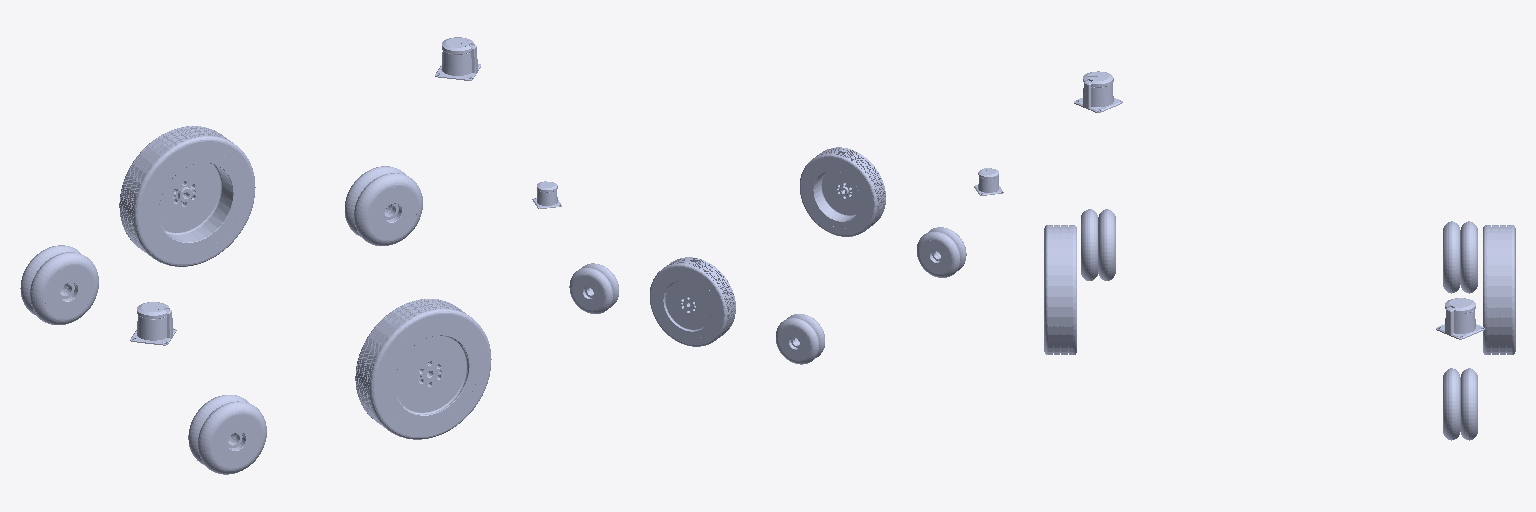
The robot description file, URDF, robot "yahboom_rosmaster_description":
<?xml version="1.0"?>
<robot
  name="yahboom_rosmaster_description">

  <link name="base_link">
  </link>

  <link
    name="chassis_link">
    <inertial>
      <origin
        xyz="-0.015895 -0.0026718 0.076958"
        rpy="0 0 0" />
      <mass
        value="100" />
      <inertia
        ixx="5.92"
        ixy="-0.0041576"
        ixz="0.012614"
        iyy="11.61"
        iyz="0.00084255"
        izz="16.64" />
    </inertial>
    <visual>
      <origin
        xyz="0 0 0"
        rpy="0 0 0" />
      <geometry>
        <mesh
          filename="package://yahboom_rosmaster_description/meshes/chassis_link.STL" />
      </geometry>
      <material
        name="">
        <color
          rgba="0.79216 0.81961 0.93333 1" />
      </material>
    </visual>
    <collision>
      <origin
        xyz="0 0 0"
        rpy="0 0 0" />
      <geometry>
        <box size="1.0 0.69 0.18" /> 
      </geometry>
    </collision>
  </link>

  <joint name="chassis_joint" type="fixed">
    <parent link="base_link"/>
    <child link="chassis_link"/>
    <origin xyz="0 0 0"/>
  </joint>

  <link
    name="FR_wheel_link">
    <inertial>
      <origin
        xyz="0.0016929 0.024071 1.8005E-05"
        rpy="0 0 0" />
      <mass
        value="0.76208" />
      <inertia
        ixx="0.0001995"
        ixy="1.2056E-05"
        ixz="7.5814E-09"
        iyy="0.00037007"
        iyz="1.2832E-07"
        izz="0.00019866" />
    </inertial>
    <visual>
      <origin
        xyz="0 0 0"
        rpy="0 0 0" />
      <geometry>
        <mesh
          filename="package://yahboom_rosmaster_description/meshes/FR_wheel_link.STL" />
      </geometry>
      <material
        name="">
        <color
          rgba="0.79216 0.81961 0.93333 1" />
      </material>
    </visual>
    <collision>
      <origin
        xyz="0 0 0"
        rpy="0 0 0" />
      <geometry>
        <cylinder radius="0.035" length="0.05" />
      </geometry>
    </collision>
  </link>
  <joint
    name="FR_wheel_link_joint"
    type="continuous">
    <origin
      xyz="0.177 -0.27738 0.0121"
      rpy="0.00061433 0.019368 0.070226" />
    <parent
      link="chassis_link" />
    <child
      link="FR_wheel_link" />
    <axis
      xyz="0.070155 0.99754 0.00074612" />
    <limit
      effort="150"
      velocity="15.56" />
    <dynamics
      damping="0.05"
      friction="0.1" />
    <safety_controller
      k_position="1000000"
      k_velocity="100" />
  </joint>
  <link
    name="FL_wheel_link">
    <inertial>
      <origin
        xyz="-0.0016928 -0.02407 5.0221E-10"
        rpy="0 0 0" />
      <mass
        value="0.76208" />
      <inertia
        ixx="0.0001995"
        ixy="1.2056E-05"
        ixz="-1.3667E-09"
        iyy="0.00037007"
        iyz="9.6114E-11"
        izz="0.00019866" />
    </inertial>
    <visual>
      <origin
        xyz="0 0 0"
        rpy="0 0 0" />
      <geometry>
        <mesh
          filename="package://yahboom_rosmaster_description/meshes/FL_wheel_link.STL" />
      </geometry>
      <material
        name="">
        <color
          rgba="0.79216 0.81961 0.93333 1" />
      </material>
    </visual>
    <collision>
      <origin
        xyz="0 0 0"
        rpy="0 0 0" />
      <geometry>
        <cylinder radius="0.035" length="0.05" />
      </geometry>
    </collision>
  </link>
  <joint
    name="FL_wheel_link_joint"
    type="continuous">
    <origin
      xyz="0.217 0.27102 0.0121"
      rpy="0 0 0.070214" />
    <parent
      link="chassis_link" />
    <child
      link="FL_wheel_link" />
    <axis
      xyz="-0.070156 -0.99754 0" />
    <limit
      effort="150"
      velocity="15.56" />
    <dynamics
      damping="0.05"
      friction="0.1" />
    <safety_controller
      k_position="1000000"
      k_velocity="100" />
  </joint>
  <link
    name="BR_wheel_link">
    <inertial>
      <origin
        xyz="0.0016929 0.024071 1.8005E-05"
        rpy="0 0 0" />
      <mass
        value="0.76208" />
      <inertia
        ixx="0.0001995"
        ixy="1.2056E-05"
        ixz="7.5814E-09"
        iyy="0.00037007"
        iyz="1.2832E-07"
        izz="0.00019866" />
    </inertial>
    <visual>
      <origin
        xyz="0 0 0"
        rpy="0 0 0" />
      <geometry>
        <mesh
          filename="package://yahboom_rosmaster_description/meshes/BR_wheel_link.STL" />
      </geometry>
      <material
        name="">
        <color
          rgba="0.79216 0.81961 0.93333 1" />
      </material>
    </visual>
    <collision>
      <origin
        xyz="0 0 0"
        rpy="0 0 0" />
      <geometry>
        <cylinder radius="0.035" length="0.05" />
      </geometry>
    </collision>
  </link>
  <joint
    name="BR_wheel_link_joint"
    type="continuous">
    <origin
      xyz="-0.303 -0.27738 0.0121"
      rpy="0.00061433 0.019368 0.070226" />
    <parent
      link="chassis_link" />
    <child
      link="BR_wheel_link" />
    <axis
      xyz="0.070155 0.99754 0.00074612" />
    <limit
      effort="150"
      velocity="15.56" />
    <dynamics
      damping="0.05"
      friction="0.1" />
    <safety_controller
      k_position="1000000"
      k_velocity="100" />
  </joint>
  <link
    name="BL_wheel_link">
    <inertial>
      <origin
        xyz="-0.0016928 -0.02407 -1.8003E-05"
        rpy="0 0 0" />
      <mass
        value="0.76208" />
      <inertia
        ixx="0.0001995"
        ixy="1.2056E-05"
        ixz="7.1848E-09"
        iyy="0.00037007"
        iyz="1.2834E-07"
        izz="0.00019866" />
    </inertial>
    <visual>
      <origin
        xyz="0 0 0"
        rpy="0 0 0" />
      <geometry>
        <mesh
          filename="package://yahboom_rosmaster_description/meshes/BL_wheel_link.STL" />
      </geometry>
      <material
        name="">
        <color
          rgba="0.79216 0.81961 0.93333 1" />
      </material>
    </visual>
    <collision>
      <origin
        xyz="0 0 0"
        rpy="0 0 0" />
      <geometry>
        <cylinder radius="0.035" length="0.05" />
      </geometry>
    </collision>
  </link>
  <joint
    name="BL_wheel_link_joint"
    type="continuous">
    <origin
      xyz="-0.263 0.27088 0.0121"
      rpy="0.00061433 0.019368 0.070226" />
    <parent
      link="chassis_link" />
    <child
      link="BL_wheel_link" />
    <axis
      xyz="-0.070155 -0.99754 -0.00074612" />
    <limit
      effort="150"
      velocity="15.56" />
    <dynamics
      damping="0.05"
      friction="0.1" />
    <safety_controller
      k_position="1000000"
      k_velocity="100" />
  </joint>
  <link
    name="MR_wheel_link">
    <inertial>
      <origin
        xyz="0.0014757 0.020983 1.5695E-05"
        rpy="0 0 0" />
      <mass
        value="3.5" />
      <inertia
        ixx="0.0021514"
        ixy="0.00013184"
        ixz="9.2888E-08"
        iyy="0.0040168"
        iyz="1.4025E-06"
        izz="0.0021423" />
    </inertial>
    <visual>
      <origin
        xyz="0 0 0"
        rpy="0 0 0" />
      <geometry>
        <mesh
          filename="package://yahboom_rosmaster_description/meshes/MR_wheel_link.STL" />
      </geometry>
      <material
        name="">
        <color
          rgba="0.79216 0.81961 0.93333 1" />
      </material>
    </visual>
    <collision>
      <origin
        xyz="0 0 0"
        rpy="0 0 0" />
      <geometry>
        <cylinder radius="0.09" length="0.044" />
      </geometry>
    </collision>
  </link>
  <joint
    name="MR_wheel_link_joint"
    type="continuous">
    <origin
      xyz="-0.043001 -0.32758 0.065"
      rpy="0.00061433 0.019368 0.070226" />
    <parent
      link="chassis_link" />
    <child
      link="MR_wheel_link" />
    <axis
      xyz="0.070155 0.99754 0.00074612" />
    <limit
      effort="0"
      velocity="7" />
    <dynamics
      damping="0.1"
      friction="0.5" />
    <safety_controller
      k_position="500000"
      k_velocity="50" />
  </joint>
  <link
    name="ML_wheel_link">
    <inertial>
      <origin
        xyz="-0.0014757 -0.020983 -1.5695E-05"
        rpy="0 0 0" />
      <mass
        value="3.5" />
      <inertia
        ixx="0.0021514"
        ixy="0.00013184"
        ixz="1.0007E-07"
        iyy="0.0040168"
        iyz="1.3971E-06"
        izz="0.0021423" />
    </inertial>
    <visual>
      <origin
        xyz="0 0 0"
        rpy="0 0 0" />
      <geometry>
        <mesh
          filename="package://yahboom_rosmaster_description/meshes/ML_wheel_link.STL" />
      </geometry>
      <material
        name="">
        <color
          rgba="0.79216 0.81961 0.93333 1" />
      </material>
    </visual>
    <collision>
      <origin
        xyz="0 0 0"
        rpy="0 0 0" />
      <geometry>
        <cylinder radius="0.09" length="0.044" />
      </geometry>
    </collision>
  </link>
  <joint
    name="ML_wheel_link_joint"
    type="continuous">
    <origin
      xyz="-0.043001 0.32282 0.065"
      rpy="0.00061433 0.019368 0.070226" />
    <parent
      link="chassis_link" />
    <child
      link="ML_wheel_link" />
    <axis
      xyz="-0.070155 -0.99754 -0.00074612" />
    <limit
      effort="0"
      velocity="7" />
    <dynamics
      damping="0.1"
      friction="0.5" />
    <safety_controller
      k_position="500000"
      k_velocity="50" />
  </joint>
  <link
    name="lidar_front_link">
    <inertial>
      <origin
        xyz="0.0028856 -0.0028901 -0.017643"
        rpy="0 0 0" />
      <mass
        value="0.14999" />
      <inertia
        ixx="4.8244E-06"
        ixy="1.6817E-07"
        ixz="-4.7496E-08"
        iyy="4.8246E-06"
        iyz="4.7512E-08"
        izz="5.7234E-06" />
    </inertial>
    <visual>
      <origin
        xyz="0 0 0"
        rpy="0 0 0" />
      <geometry>
        <mesh
          filename="package://yahboom_rosmaster_description/meshes/lidar_front_link.STL" />
      </geometry>
      <material
        name="">
        <color
          rgba="0.79216 0.81961 0.93333 1" />
      </material>
    </visual>
    <collision>
      <origin
        xyz="0 0 0"
        rpy="0 0 0" />
      <geometry>
        <mesh
          filename="package://yahboom_rosmaster_description/meshes/lidar_front_link.STL" />
      </geometry>
    </collision>
  </link>
  <joint
    name="lidar_front_link_joint"
    type="fixed">
    <origin
      xyz="0.32487 0.24906 0.218"
      rpy="0 0 0" />
    <parent
      link="chassis_link" />
    <child
      link="lidar_front_link" />
    <axis
      xyz="0 0 0" />
  </joint>
  <link
    name="lidar_back_link">
    <inertial>
      <origin
        xyz="0.0028856 -0.0028901 -0.017643"
        rpy="0 0 0" />
      <mass
        value="0.14999" />
      <inertia
        ixx="4.8244E-06"
        ixy="1.6817E-07"
        ixz="-4.7496E-08"
        iyy="4.8246E-06"
        iyz="4.7512E-08"
        izz="5.7234E-06" />
    </inertial>
    <visual>
      <origin
        xyz="0 0 0"
        rpy="0 0 0" />
      <geometry>
        <mesh
          filename="package://yahboom_rosmaster_description/meshes/lidar_back_link.STL" />
      </geometry>
      <material
        name="">
        <color
          rgba="0.79216 0.81961 0.93333 1" />
      </material>
    </visual>
    <collision>
      <origin
        xyz="0 0 0"
        rpy="0 0 0" />
      <geometry>
        <mesh
          filename="package://yahboom_rosmaster_description/meshes/lidar_back_link.STL" />
      </geometry>
    </collision>
  </link>
  <joint
    name="lidar_back_link_joint"
    type="fixed">
    <origin
      xyz="-0.41524 -0.25105 0.218"
      rpy="0 0 0" />
    <parent
      link="chassis_link" />
    <child
      link="lidar_back_link" />
    <axis
      xyz="0 0 0" />
  </joint>

  <ros2_control name="HitbotSystem" type="system">
    <hardware>
      <plugin>gz_ros2_control/GazeboSystem</plugin>
    </hardware>

    <joint name="ML_wheel_link_joint">
      <command_interface name="velocity"/>
      <state_interface name="velocity"/>
    </joint>

    <joint name="MR_wheel_link_joint">
      <command_interface name="velocity"/>
      <state_interface name="velocity"/>
    </joint>
  </ros2_control>

  <gazebo>
    <plugin
      filename="libgz_ros2_control.so"
      name="gz_ros2_control">
    </plugin>
  </gazebo>


</robot>

--- Facts derived from the render (not from the file) ---
Views: 3 orthographic renders of the robot side by side, from view 1: azimuth 30°, elevation 25°; view 2: azimuth 150°, elevation 25°; view 3: azimuth 270°, elevation 25°.
Model yahboom_rosmaster_description with 10 links and 9 joints (6 continuous, 3 fixed), rooted at base_link, posed every joint at zero.
Links seen in each view (by area): view 1: ML_wheel_link, MR_wheel_link, BR_wheel_link, FL_wheel_link, BL_wheel_link, lidar_front_link, lidar_back_link; view 2: ML_wheel_link, MR_wheel_link, BR_wheel_link, FL_wheel_link, BL_wheel_link, lidar_front_link, lidar_back_link; view 3: MR_wheel_link, ML_wheel_link, BR_wheel_link, FL_wheel_link, BL_wheel_link, lidar_front_link, lidar_back_link.
Boxes of the visible links, bbox=[...] form: ML_wheel_link: bbox=[119, 126, 255, 266]; MR_wheel_link: bbox=[355, 299, 491, 439]; BR_wheel_link: bbox=[188, 395, 266, 474]; FL_wheel_link: bbox=[345, 166, 422, 245]; BL_wheel_link: bbox=[20, 245, 98, 324]; lidar_front_link: bbox=[435, 37, 480, 80]; lidar_back_link: bbox=[130, 302, 176, 345]; ML_wheel_link: bbox=[650, 257, 735, 346]; MR_wheel_link: bbox=[800, 147, 885, 236]; BR_wheel_link: bbox=[917, 227, 966, 277]; FL_wheel_link: bbox=[569, 263, 618, 313]; BL_wheel_link: bbox=[776, 314, 824, 364]; lidar_front_link: bbox=[532, 181, 561, 208]; lidar_back_link: bbox=[974, 168, 1003, 195]; MR_wheel_link: bbox=[1044, 225, 1076, 354]; ML_wheel_link: bbox=[1483, 225, 1515, 354]; BR_wheel_link: bbox=[1081, 209, 1115, 280]; FL_wheel_link: bbox=[1443, 368, 1477, 440]; BL_wheel_link: bbox=[1443, 221, 1477, 293]; lidar_front_link: bbox=[1436, 298, 1484, 339]; lidar_back_link: bbox=[1074, 71, 1122, 112].
Bounding box of the posed robot: 0.8076 × 0.6504 × 0.2559 m (x, y, z).
Meshes: 9 distinct files referenced, 7 mesh visuals loaded (7 binary STL); not drawn: 2 (reference not matched to a file when rendering).
